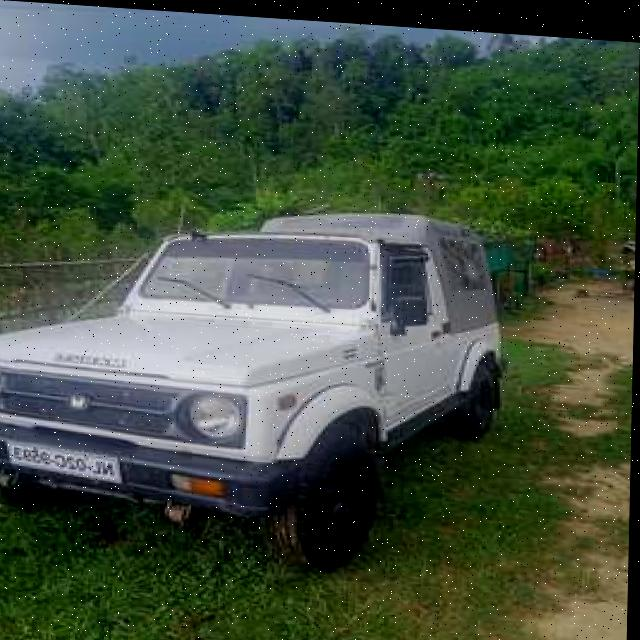plate: (8, 441, 123, 485)
